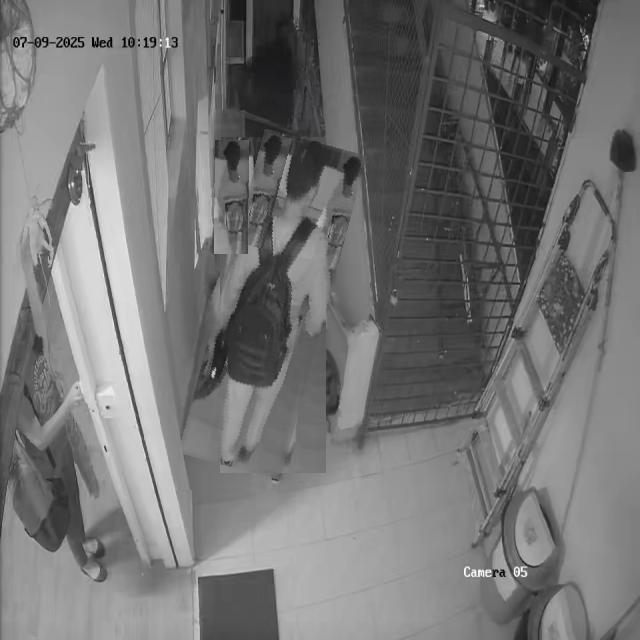person: (199, 133, 347, 477), (215, 140, 249, 254)
